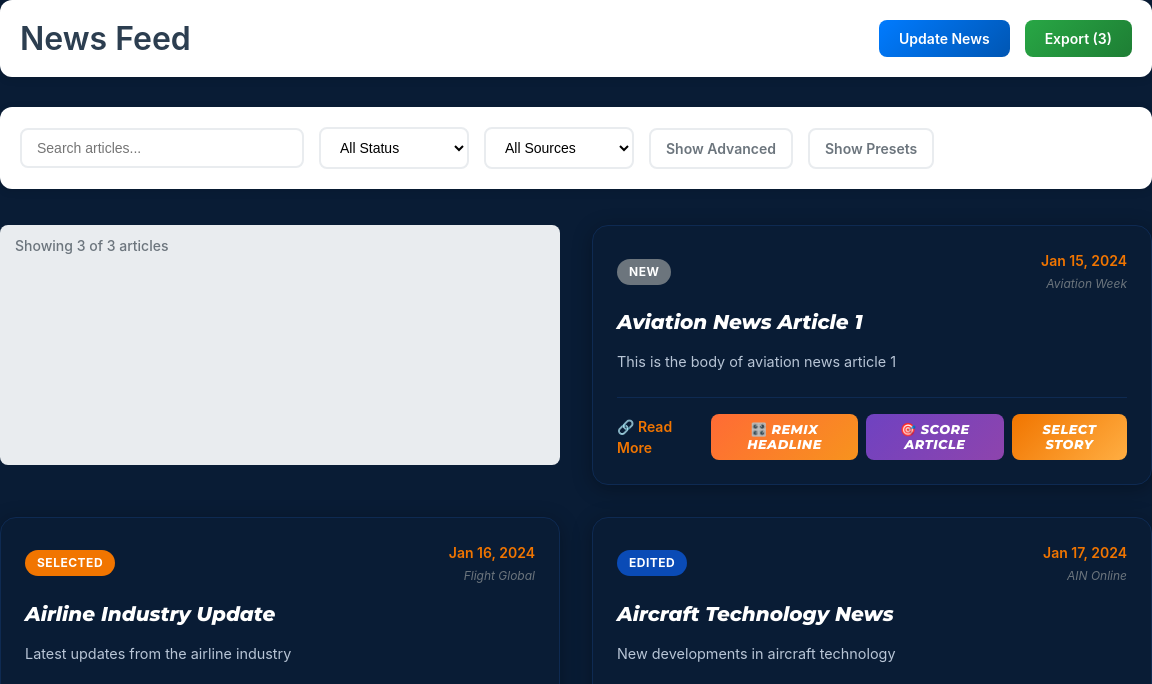
Test case: Feed Component › Export Functionality › exports filtered articles
Expected: the heading "Aviation News Article 1" is shown, [617, 310, 862, 334]
Click the button "Export (3)": (1078, 38) [1025, 20, 1132, 57]
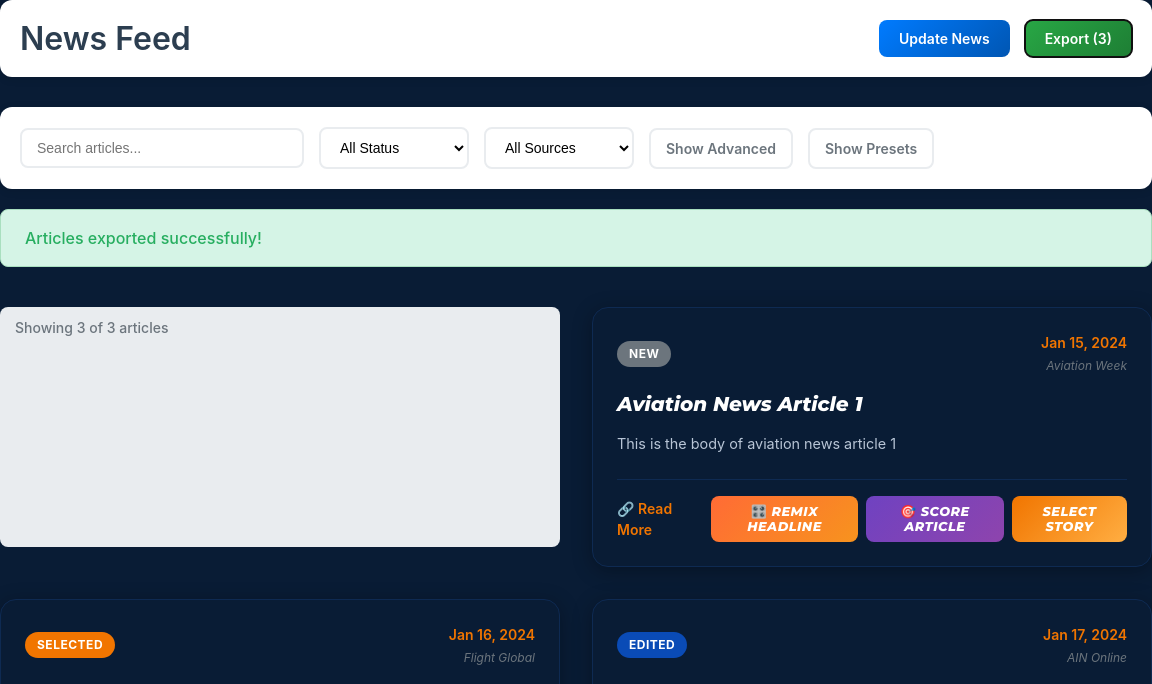
Expected: the text "Articles exported successfully!" is shown, [0, 209, 1151, 267]
